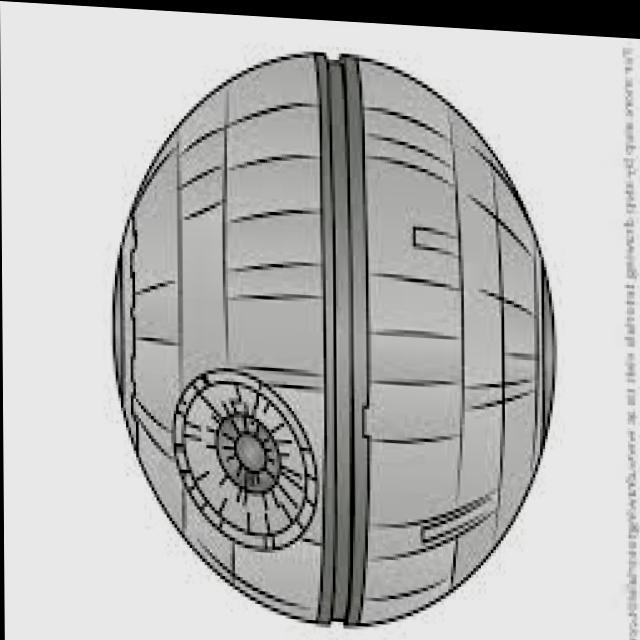deathStar: (110, 39, 555, 626)
